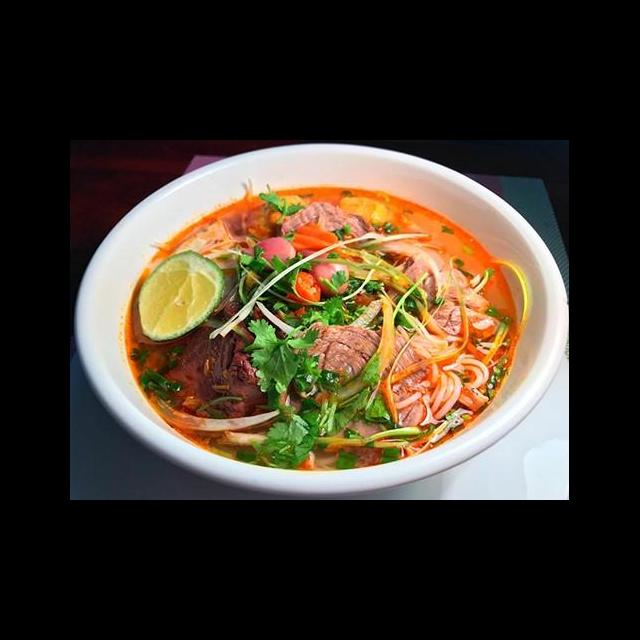bun: (331, 195, 463, 258)
thit bo: (316, 240, 439, 344), (400, 240, 526, 318), (218, 194, 348, 266)
tom tit: (151, 274, 255, 349)
